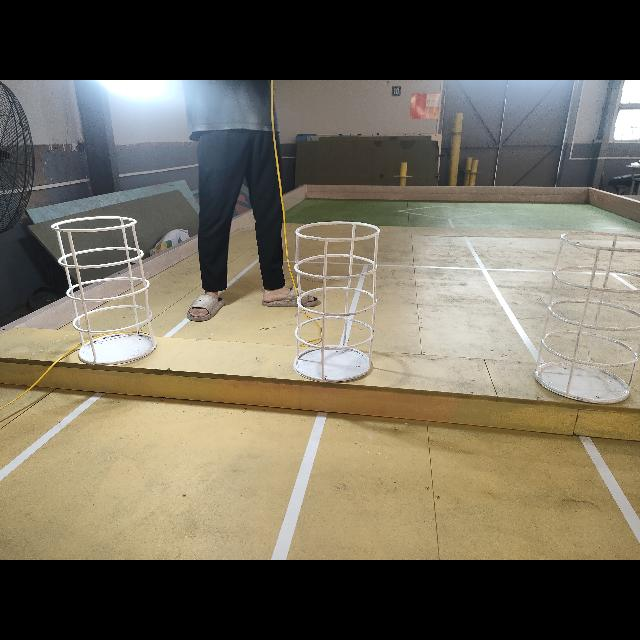S: (532, 228, 640, 406), (50, 212, 160, 366), (287, 217, 381, 383)
